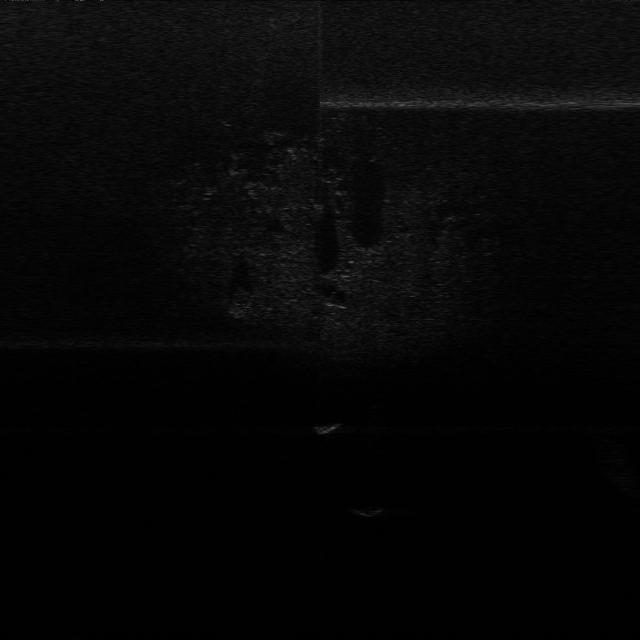cube: (348, 497, 394, 523)
square cage: (308, 411, 348, 438)
